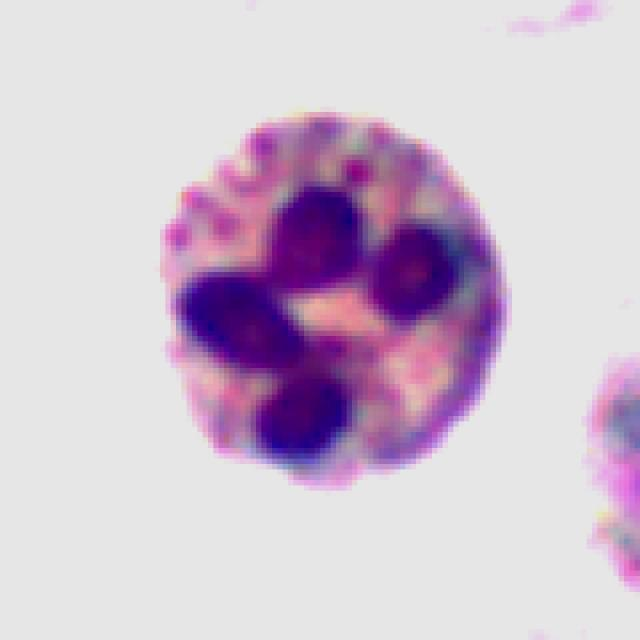WBC: (138, 74, 538, 490)
